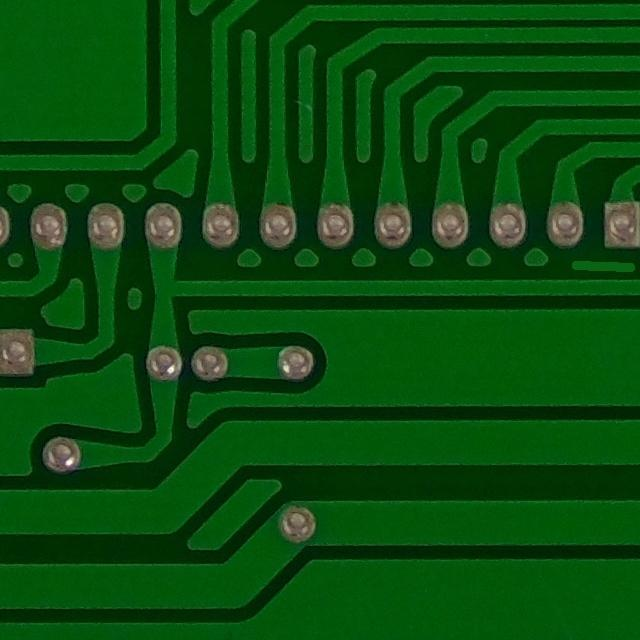spurious_copper: (560, 243, 640, 292)
